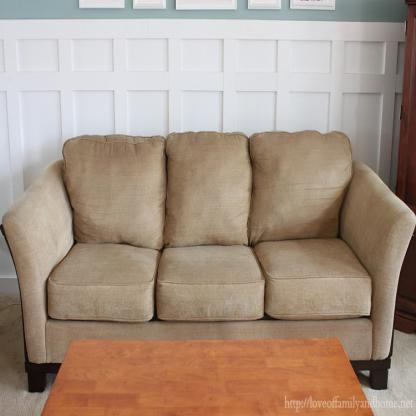Sofa: (23, 138, 394, 336)
